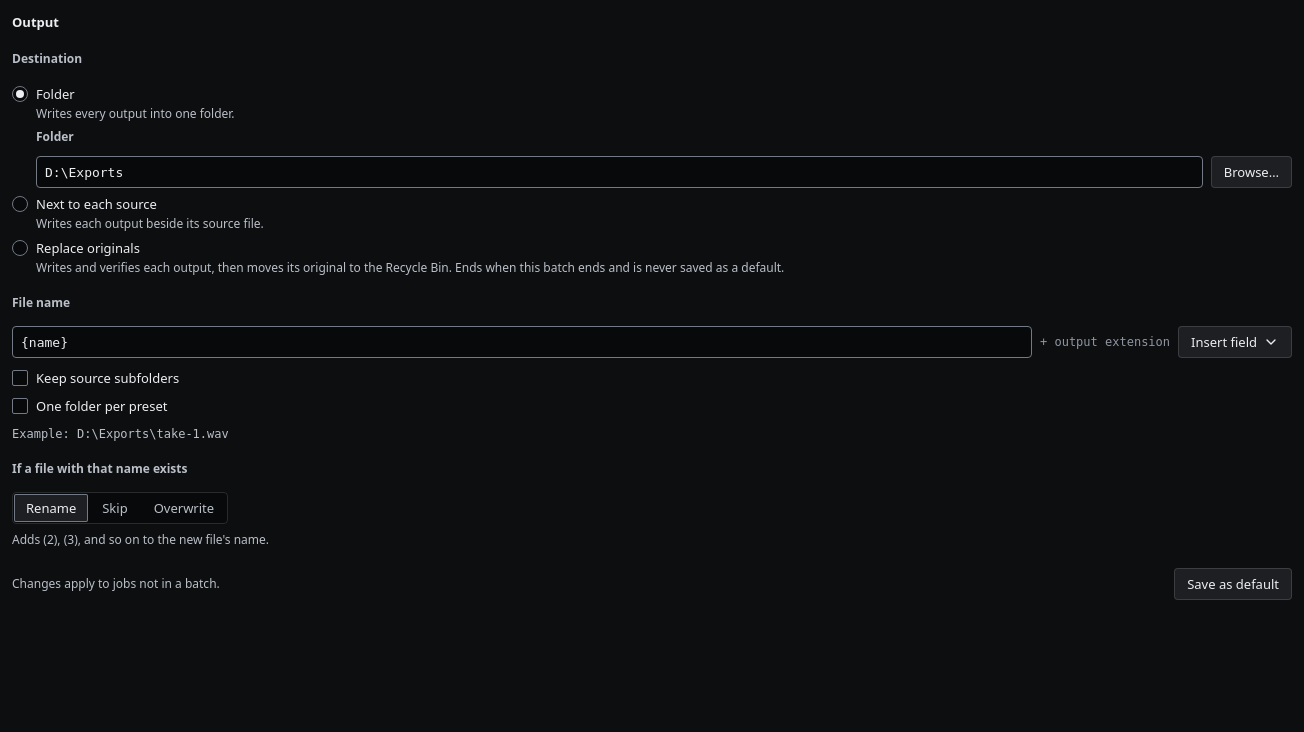
Test case: OutputPolicyPanel › sends a typed folder trimmed and unquoted on Enter, and shows nothing when unchanged
Press Enter in the field named "Folder" below "Writes every output into one folder.", box [36,156,1203,188]
Replace the text in the field named "Folder" below "Writes every output into one folder." with "  \"E:\\Podcasts\"  " at (619,172), box [36,156,1203,188]
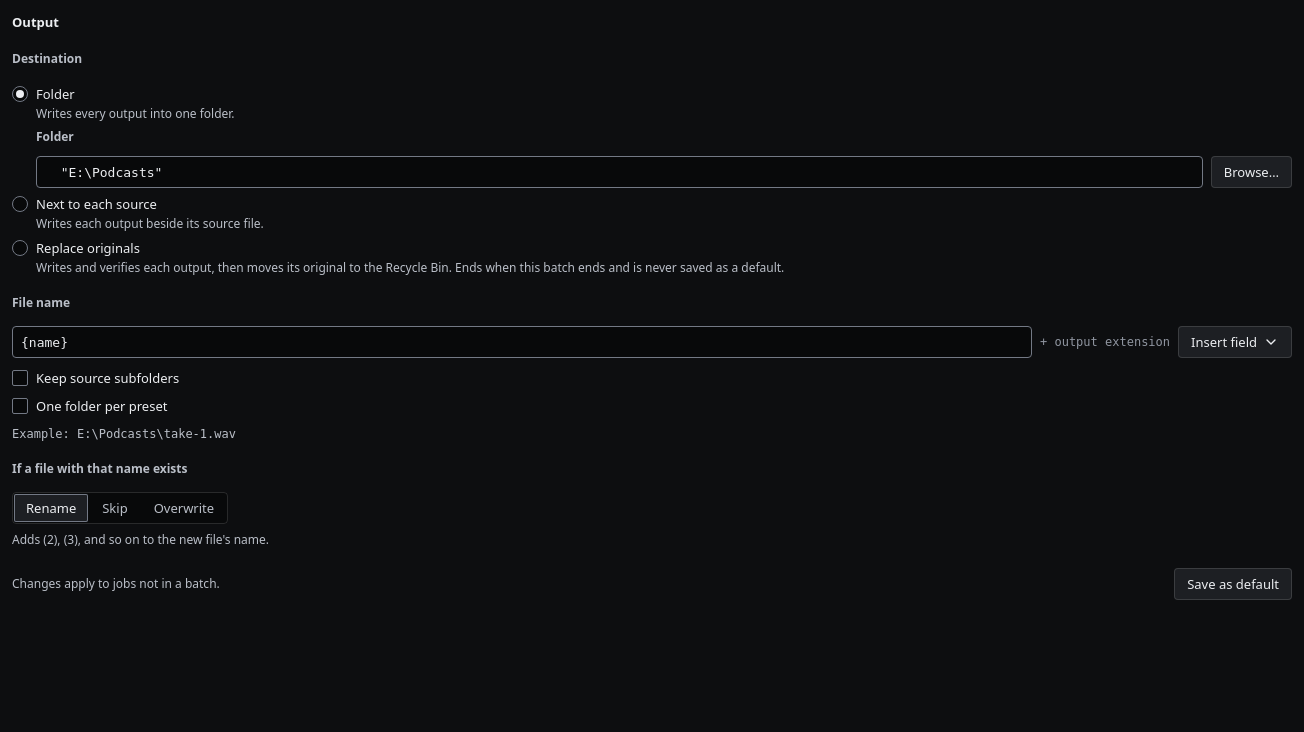
Press Enter in the field named "Folder" below "Writes every output into one folder.", box [36,156,1203,188]
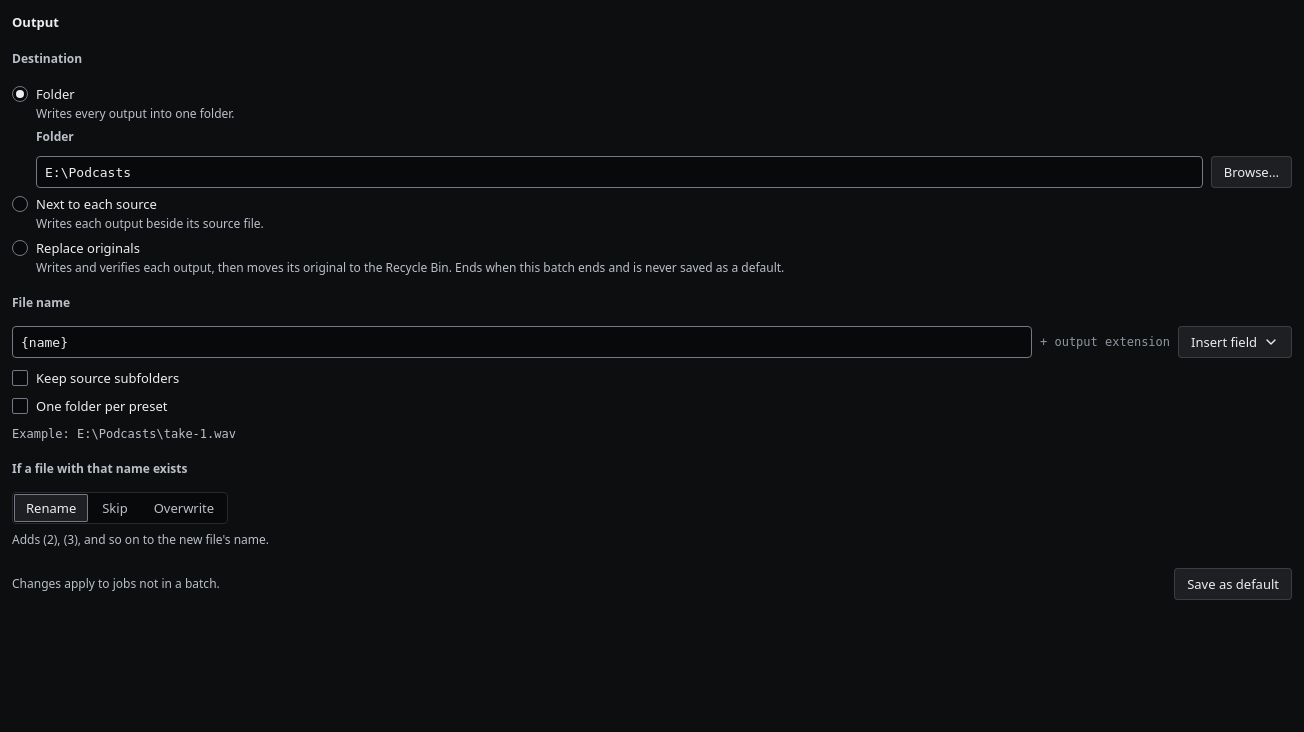
Expected: the field named "Folder" below "Writes every output into one folder." holds "E:\\Podcasts", [36,156,1203,188]
